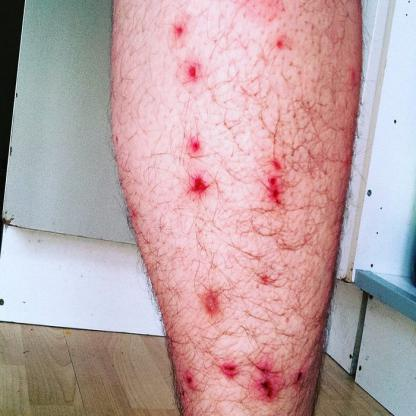Bed Bug: (249, 358, 282, 410), (262, 150, 289, 210), (194, 284, 229, 324), (214, 353, 239, 388), (184, 174, 214, 202), (178, 359, 198, 396), (270, 31, 294, 56), (166, 17, 188, 41), (252, 263, 272, 289), (181, 58, 201, 83), (290, 357, 304, 388), (345, 59, 359, 90), (184, 133, 202, 156), (128, 206, 144, 224)
